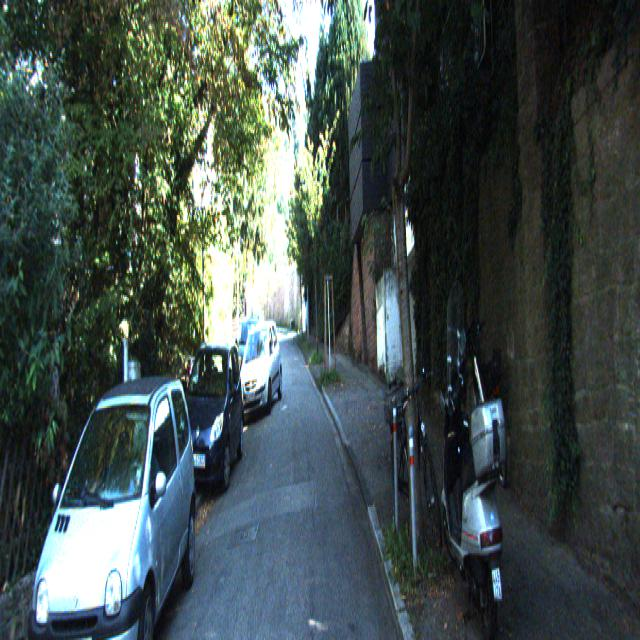Car: (25, 357, 199, 638), (437, 331, 517, 638), (175, 335, 245, 503), (236, 316, 282, 420)
